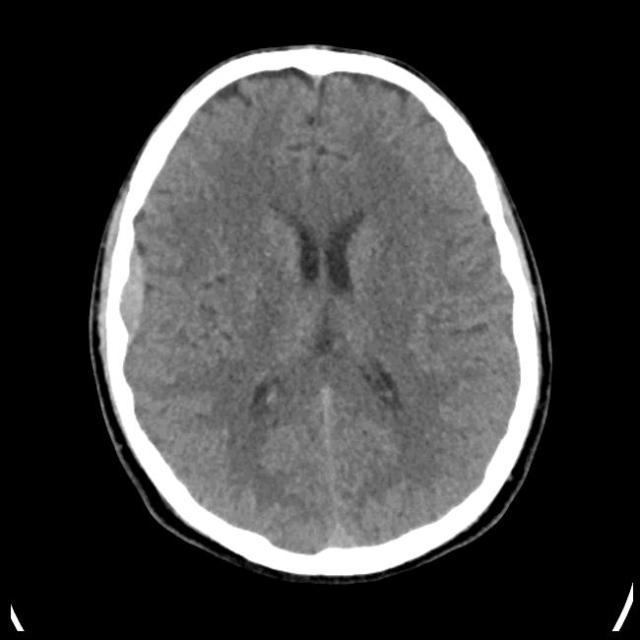lesion: (96, 50, 546, 575)
